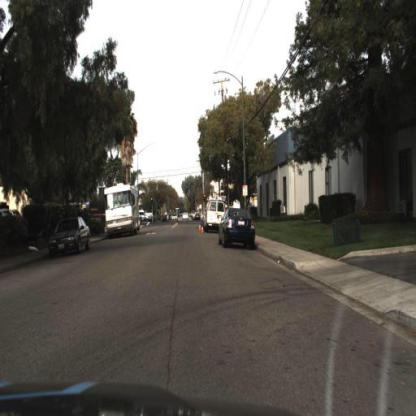car: (48, 217, 92, 259), (49, 215, 92, 256), (218, 206, 256, 248), (205, 198, 228, 232), (181, 209, 192, 227), (168, 213, 178, 226)
trafficLight-Red: (150, 197, 155, 210), (203, 193, 208, 205)
truck: (102, 181, 142, 237)
